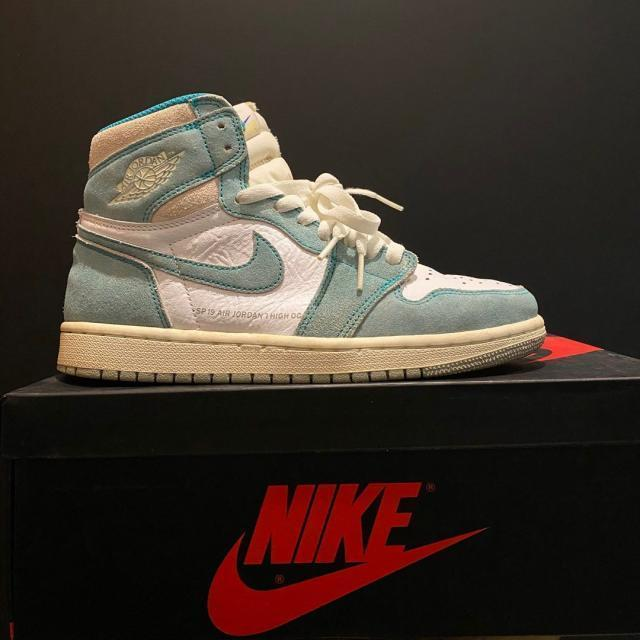nike original jordan 1: (53, 88, 549, 390)
